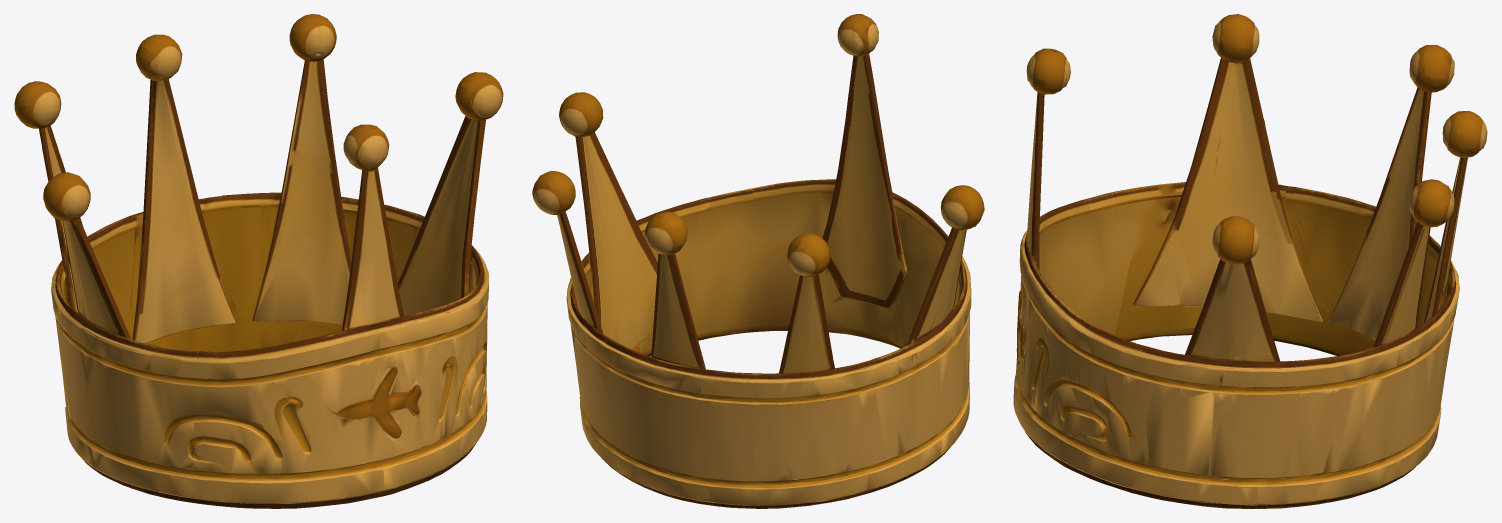
File: sky-sense-2-final-shrunk.glb
The picture shows the model from 3 angles, left to right: view 1: azimuth 30°, elevation 25°; view 2: azimuth 150°, elevation 25°; view 3: azimuth 270°, elevation 25°; orthographic projection. The views are drawn at different scales.
Parts seen in each view (by area): view 1: material; view 2: material; view 3: material.
Part boxes in pixels (box(x1,y1,x2,y2)): material: box(14, 14, 503, 508); material: box(532, 14, 984, 508); material: box(1013, 14, 1487, 508).
Bounding box in the file's own units: 0.5851 × 0.4735 × 0.5279.
1 material, 1 textured.
